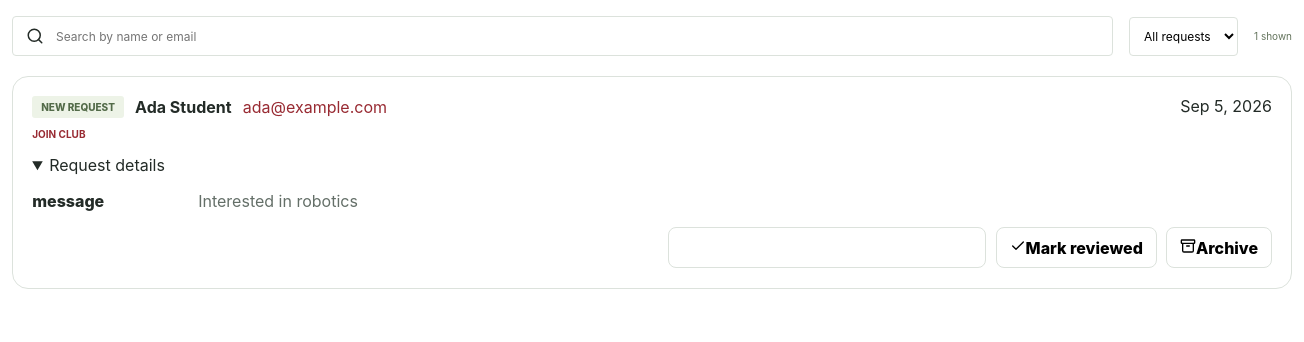
keeps the request available and shows a useful error when updating fails
The width and height of the screenshot is (1304, 342).
Click the button "Mark reviewed".
click(1076, 248)  # box [996, 227, 1157, 268]
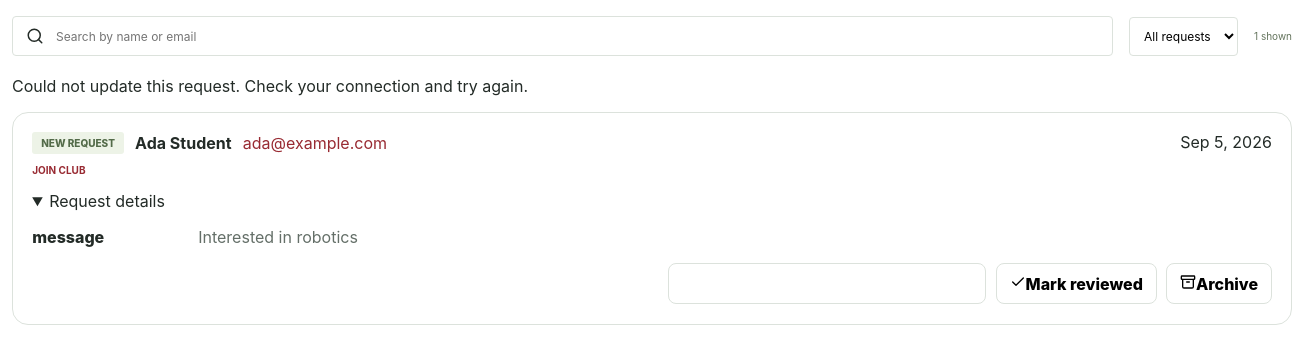
Expected: the button "Mark reviewed" is enabled, [996, 263, 1157, 304]
Expected: the message "Could not update this request. Check your connection and try again." is shown, [12, 76, 528, 96]
